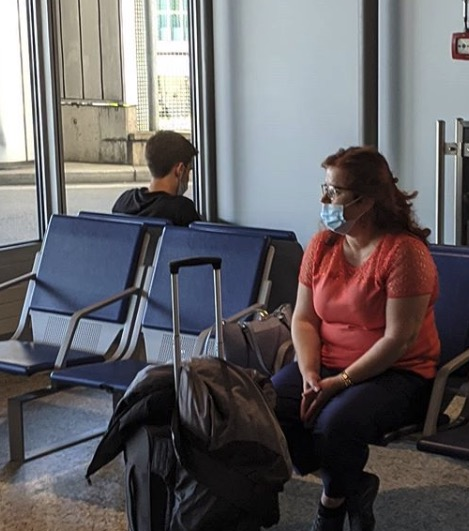mask_weared_incorrect: (309, 179, 356, 226)
